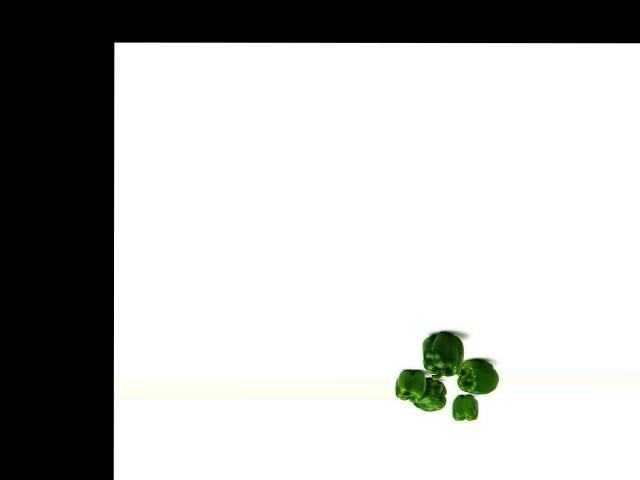bell_pepper: (394, 365, 428, 400)
